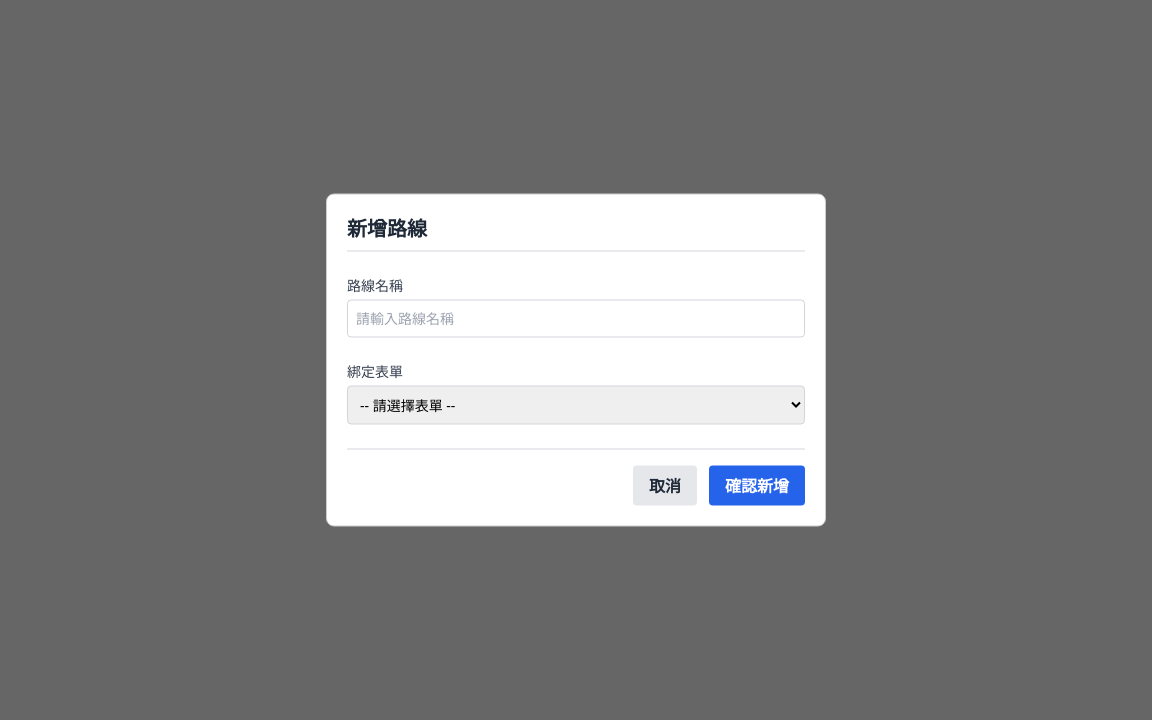
CreateRouteModal Component › 新增路線功能 › 應該能夠成功新增路線
Type "新測試路線" into the field labelled "路線名稱". click: (576, 318)
box: [347, 300, 805, 338]
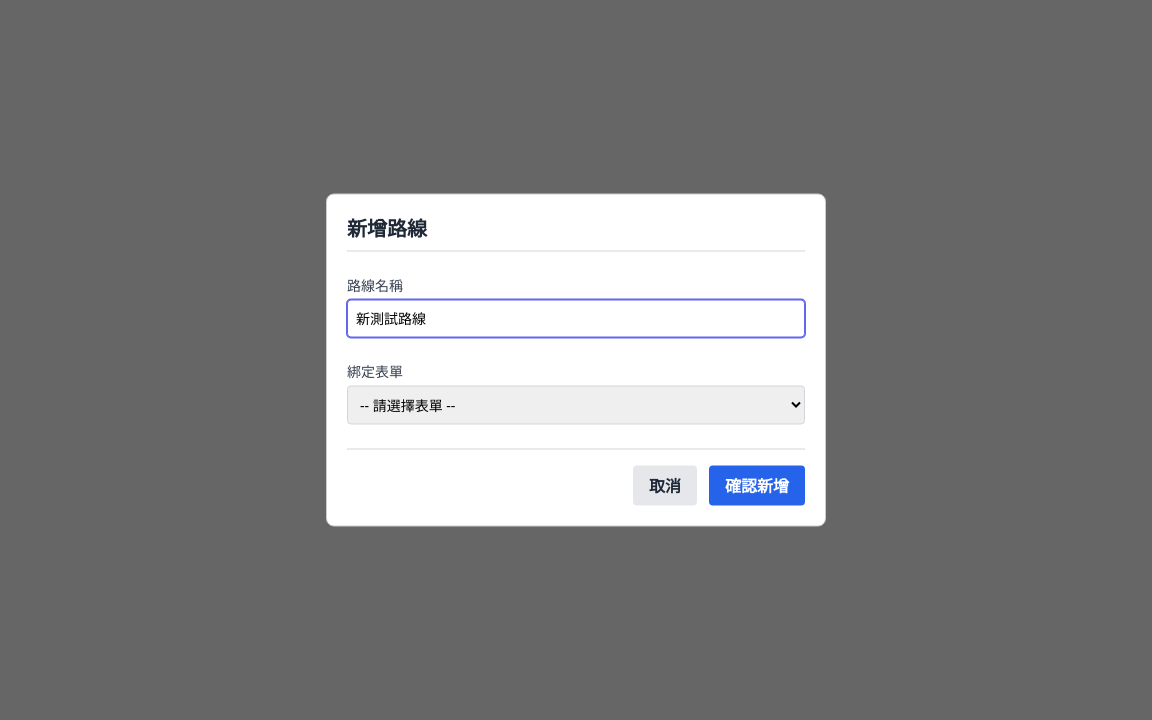
Select "測試表單1" in the dropdown labelled "綁定表單". click: (576, 405)
box: [347, 386, 805, 424]
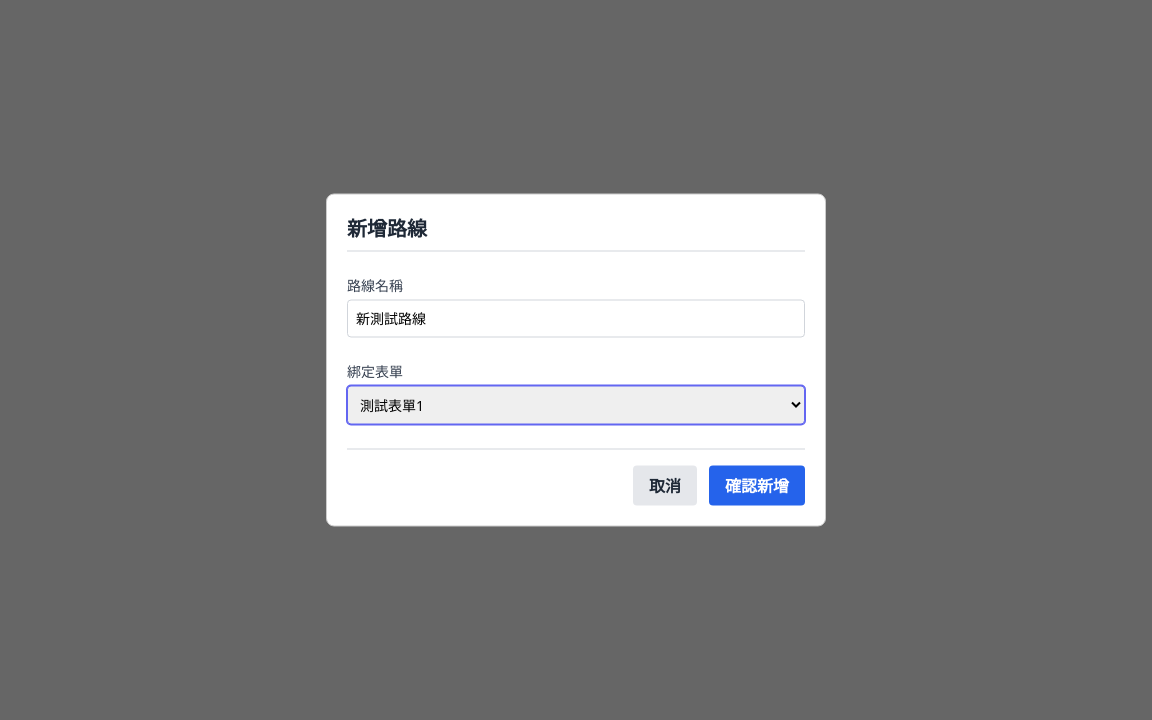
Click the button "確認新增". click: click(757, 486)
box: [709, 466, 805, 506]
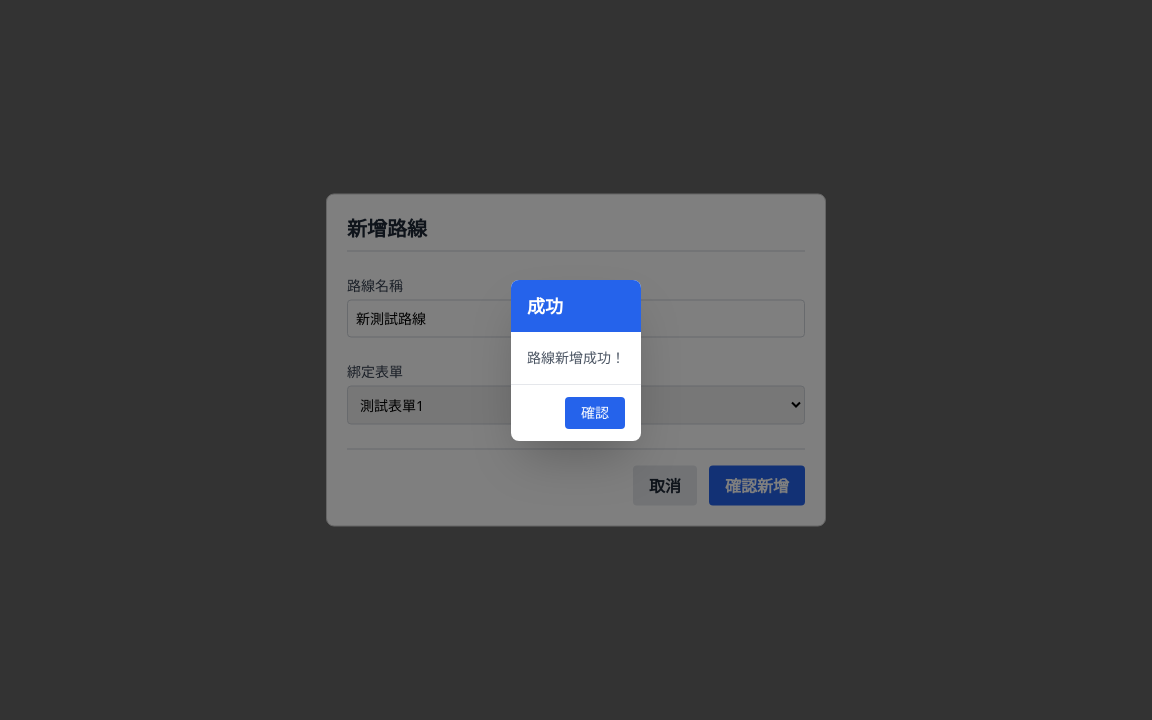
Result: the heading "成功" is shown at [527, 294, 563, 318]
Result: the text "路線新增成功！" is shown at [527, 348, 625, 368]
